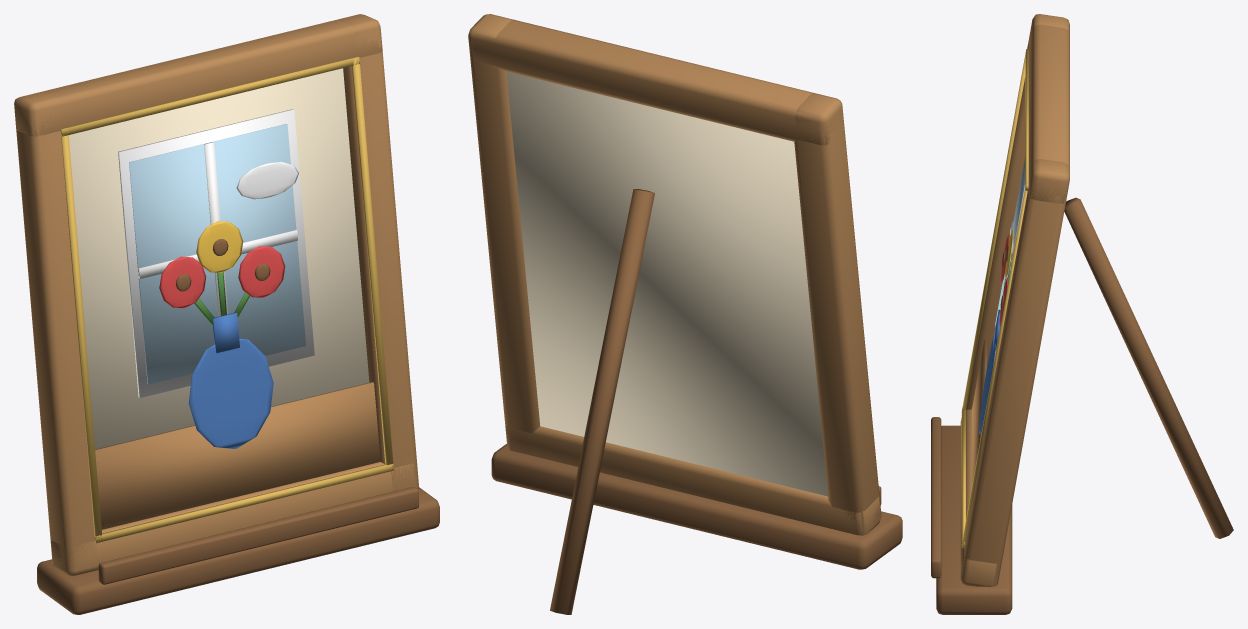
The model's file is art-flower-window.glb.
The picture shows the model from 3 angles, left to right: view 1: azimuth 30°, elevation 25°; view 2: azimuth 150°, elevation 25°; view 3: azimuth 270°, elevation 25°; orthographic projection. The views are drawn at different scales.
Visible parts, largest first — view 1: art; view 2: art; view 3: art.
Part boxes in pixels (bbox=[...]): art: bbox=[14, 14, 439, 614]; art: bbox=[468, 14, 902, 614]; art: bbox=[931, 14, 1233, 614].
Bounding box in the file's own units: 0.47 × 0.5813 × 0.3581.
